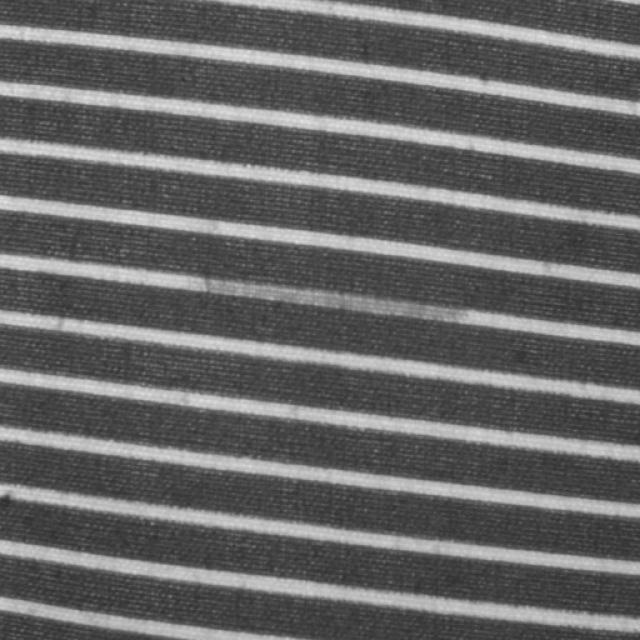Stain-Defect: (201, 279, 476, 324)
